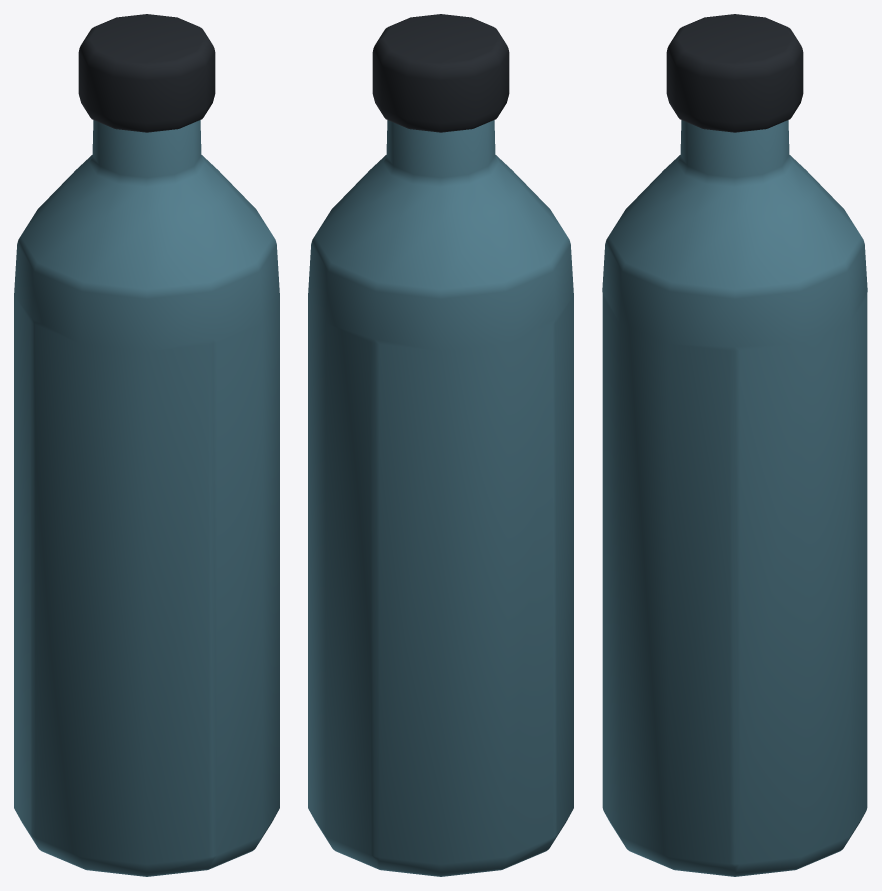
File: Bottle_Gin.fbx
3 views of the same model, side by side, from view 1: azimuth 30°, elevation 25°; view 2: azimuth 150°, elevation 25°; view 3: azimuth 270°, elevation 25° (orthographic).
Visible parts, largest first — view 1: Gin_Glass, Gin_Cap; view 2: Gin_Glass, Gin_Cap; view 3: Gin_Glass, Gin_Cap.
Boxes of the visible parts, x1,y1,x2,y2 form: Gin_Glass: [14, 120, 279, 876]; Gin_Cap: [78, 14, 215, 132]; Gin_Glass: [308, 120, 573, 876]; Gin_Cap: [372, 14, 509, 132]; Gin_Glass: [602, 120, 867, 876]; Gin_Cap: [666, 14, 803, 132].
Size of the model in its own units: 0.0778 by 0.255 by 0.0778.
